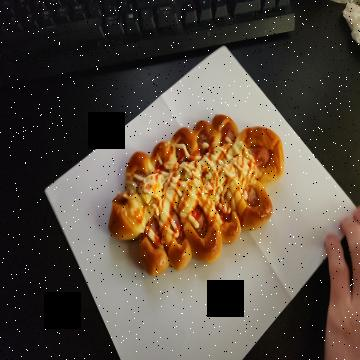pizza_bread: (107, 112, 288, 272)
